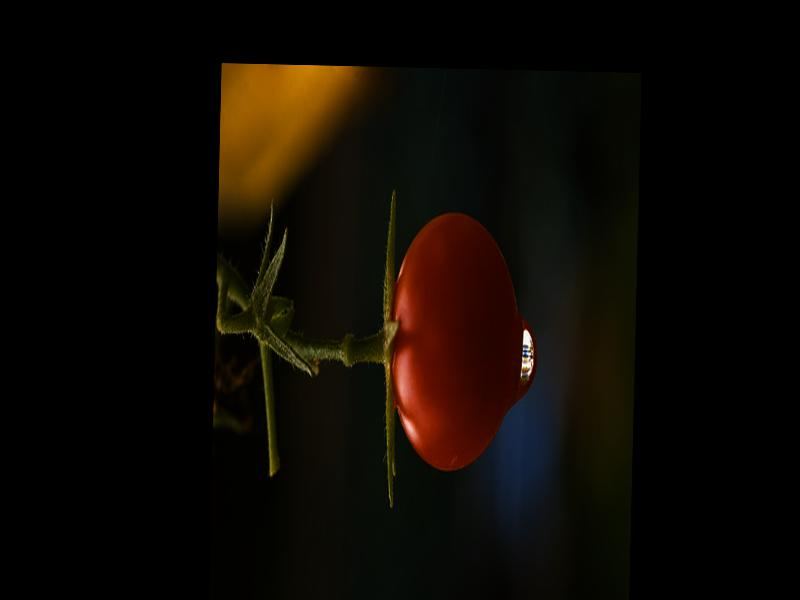Tomato: (387, 212, 520, 475)
